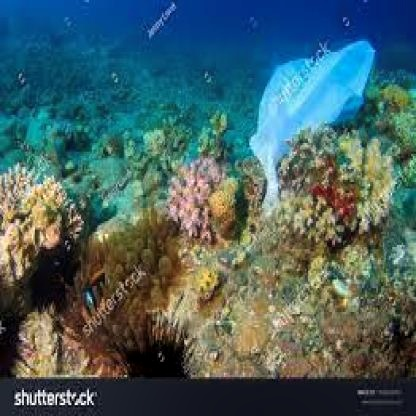pbag: (248, 37, 376, 214)
